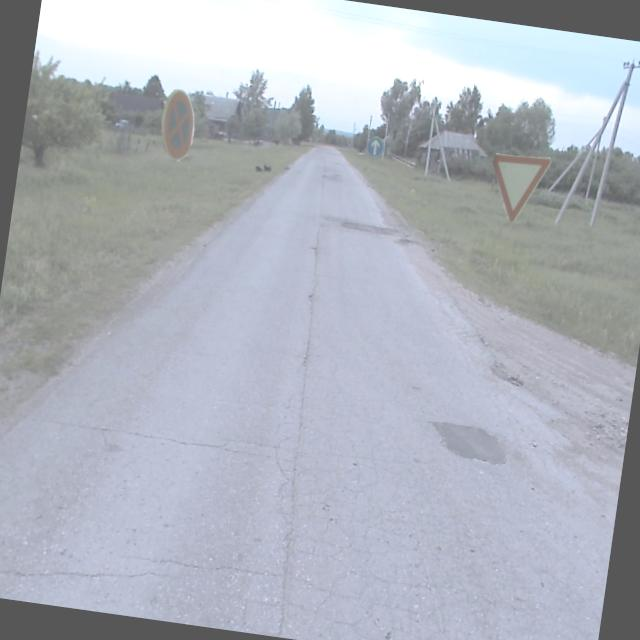road: (0, 143, 613, 640)
